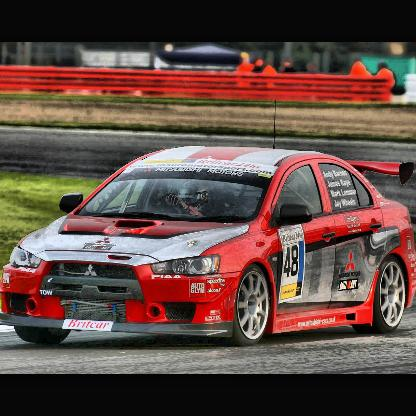Mitsubishi Lancer Sedan 2012: (2, 145, 416, 349)
